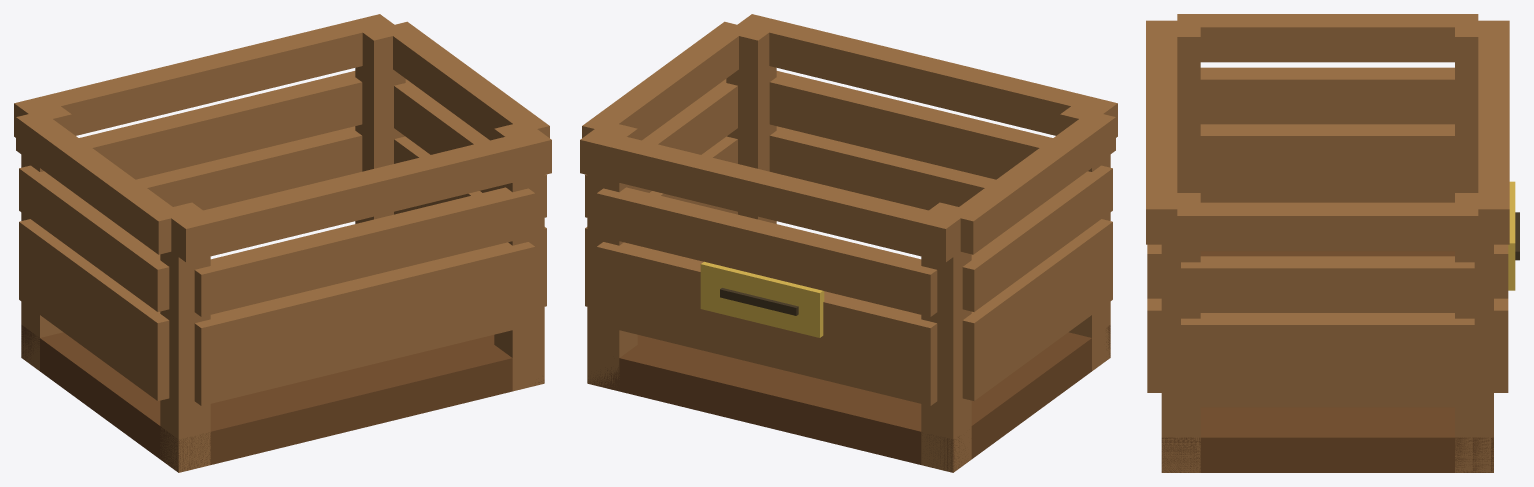
The model's file is HomebaseWoodCrateMedium_LOD00.gltf.
3 renders of one model, left to right at view 1: azimuth 30°, elevation 25°; view 2: azimuth 150°, elevation 25°; view 3: azimuth 270°, elevation 25°, orthographic. The views are drawn at different scales.
Visible parts, largest first — view 1: HomebaseWoodCrateMedium_node; view 2: HomebaseWoodCrateMedium_node; view 3: HomebaseWoodCrateMedium_node.
Part boxes in pixels (bbox=[...]): HomebaseWoodCrateMedium_node: bbox=[14, 14, 551, 472]; HomebaseWoodCrateMedium_node: bbox=[580, 14, 1117, 472]; HomebaseWoodCrateMedium_node: bbox=[1146, 14, 1519, 472].
Bounding box in the file's own units: 0.92 × 0.56 × 0.72.
